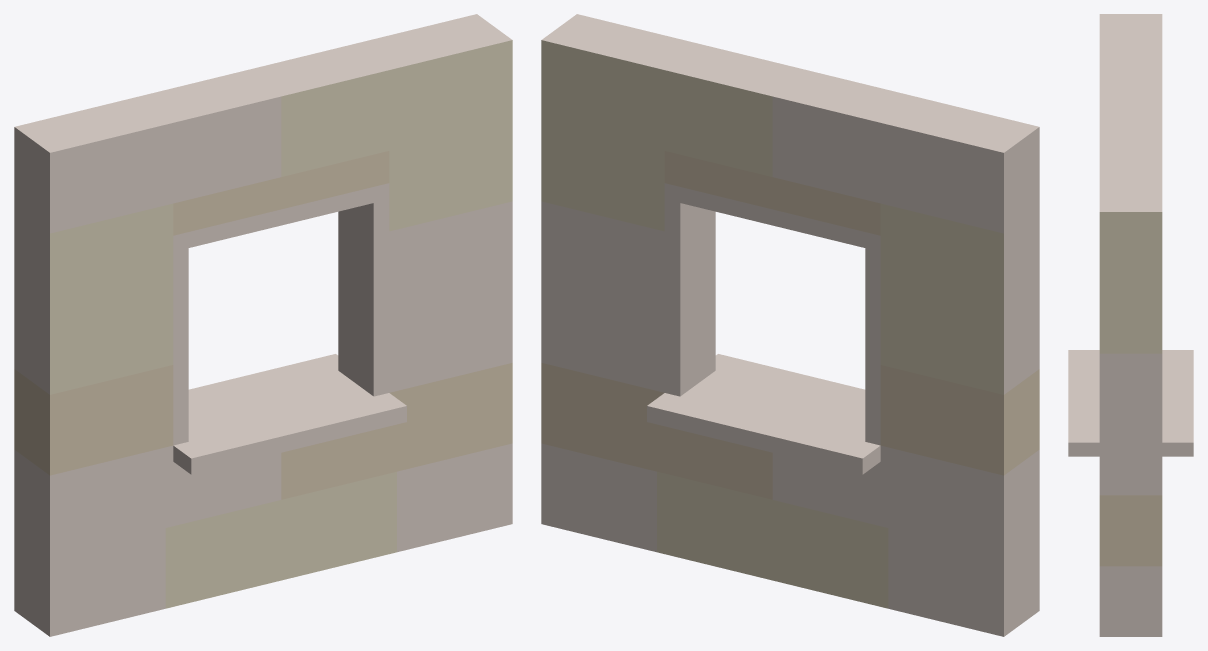
The model's file is roman_wall_window_4.fbx.
3 views of the same model, side by side, from view 1: azimuth 30°, elevation 25°; view 2: azimuth 150°, elevation 25°; view 3: azimuth 270°, elevation 25° (orthographic). The views are drawn at different scales.
Parts seen in each view (by area): view 1: Cube.040; view 2: Cube.040; view 3: Cube.040.
Part boxes in pixels (left/top/right/bottom): Cube.040: left=14, top=14, right=512, bottom=636; Cube.040: left=541, top=14, right=1039, bottom=636; Cube.040: left=1068, top=14, right=1193, bottom=636.
Size of the model in its own units: 3 by 3 by 0.8.
